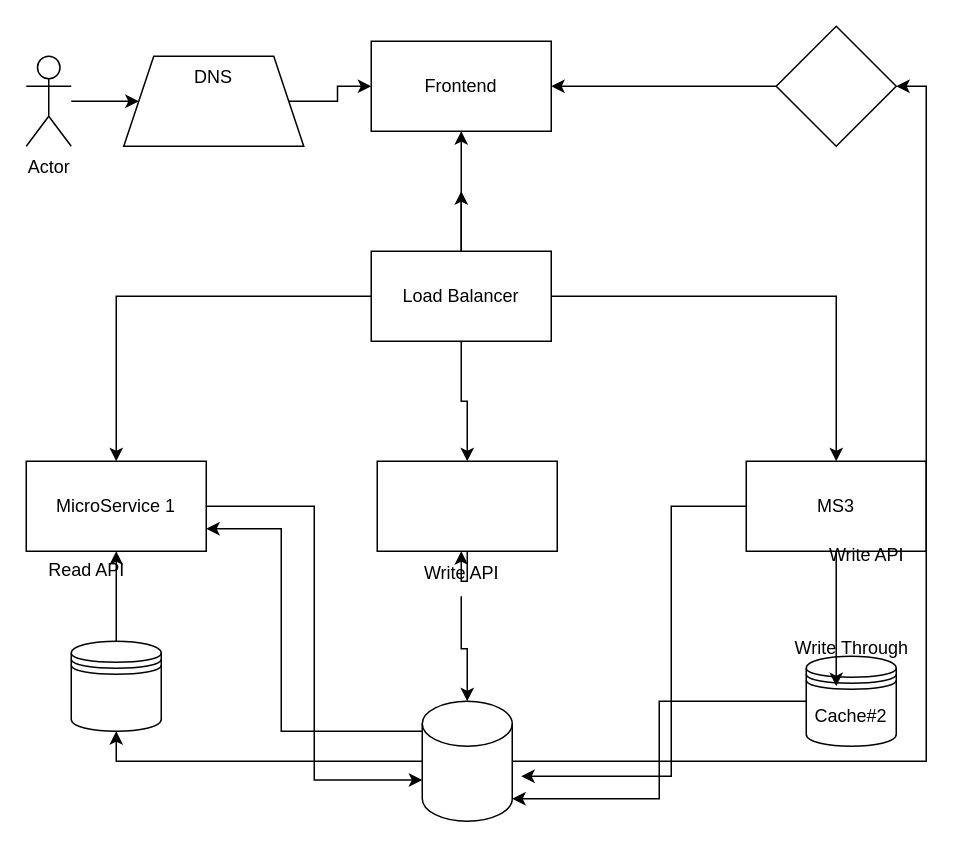
This 965x848 diagram has some shape labels left out. Each missing label, with the centre of its shape:
"Cache#1" belongs at (x=115, y=685).
"CDN" belongs at (x=835, y=85).
"MS2" belongs at (x=466, y=505).
